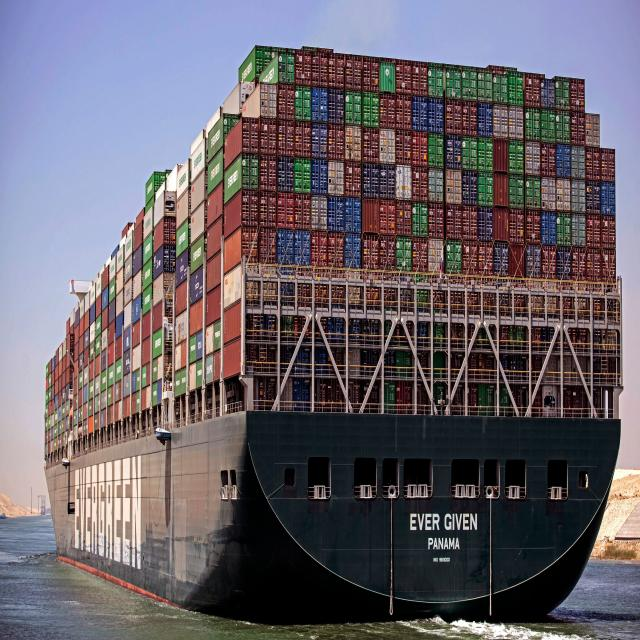boat: (21, 29, 630, 630)
